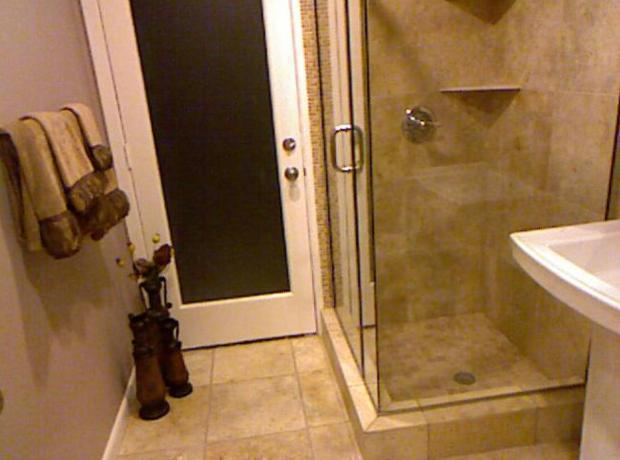Ducha: (315, 10, 618, 453)
Lavamanos: (504, 209, 618, 459)
Otro Obstaculo: (115, 250, 193, 418)
